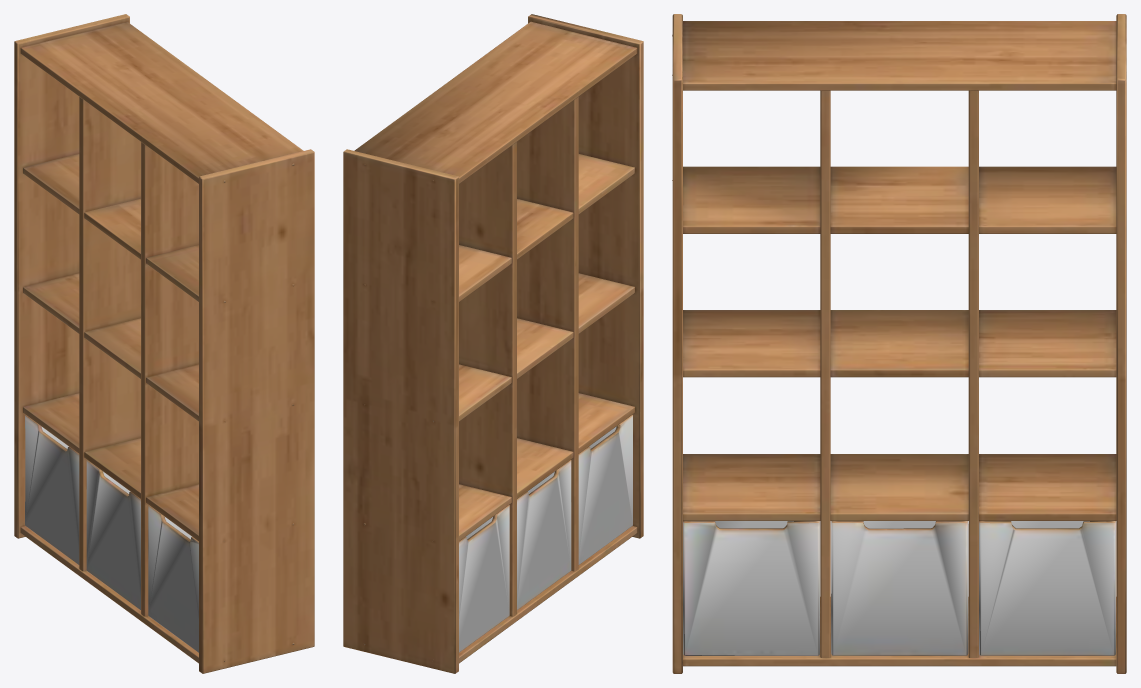
The model's file is ph-wooden_display_shelves_01.glb.
3 views of the same model, side by side, from view 1: azimuth 30°, elevation 25°; view 2: azimuth 150°, elevation 25°; view 3: azimuth 270°, elevation 25° (orthographic). The views are drawn at different scales.
Visible parts, largest first — view 1: wooden_display_shelves_01; view 2: wooden_display_shelves_01; view 3: wooden_display_shelves_01.
Boxes of the visible parts, <box> form: wooden_display_shelves_01: <box>14,14,314,673</box>; wooden_display_shelves_01: <box>343,14,643,673</box>; wooden_display_shelves_01: <box>672,14,1126,673</box>.
Size of the model in its own units: 0.3714 by 1.56 by 1.08.
Materials: 1 (1 with a texture image).
